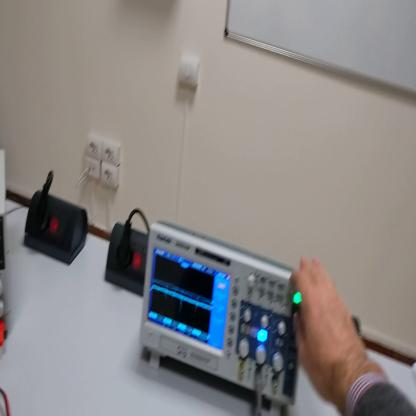hand: (289, 254, 366, 403)
oscilloscope: (137, 224, 296, 416)
power supply: (2, 142, 11, 341)
socket: (26, 188, 88, 272), (108, 224, 149, 297)
